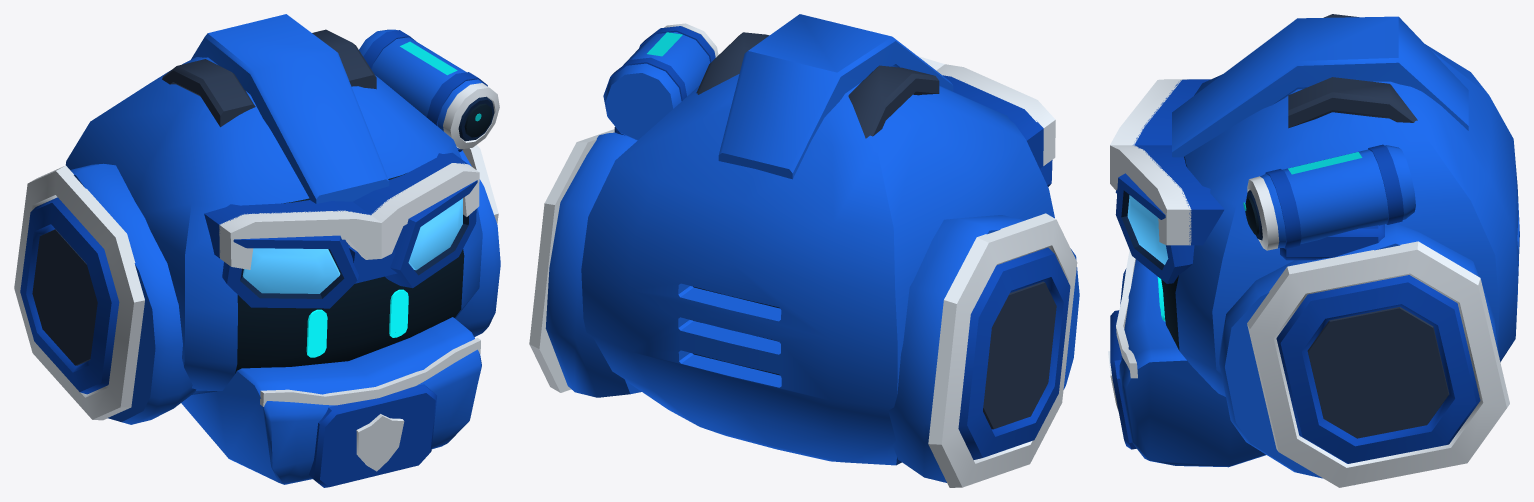
The model's file is copilot_security_v01.glb.
3 renders of one model, left to right at view 1: azimuth 30°, elevation 25°; view 2: azimuth 150°, elevation 25°; view 3: azimuth 270°, elevation 25°, orthographic. The views are drawn at different scales.
Parts seen in each view (by area): view 1: security_model; view 2: security_model; view 3: security_model.
Boxes of the visible parts, bbox=[...] form: security_model: bbox=[14, 14, 500, 487]; security_model: bbox=[529, 14, 1079, 487]; security_model: bbox=[1108, 14, 1519, 487].
Bounding box in the file's own units: 2.61 × 2.34 × 2.24.
Materials: 2 (2 with a texture image).
